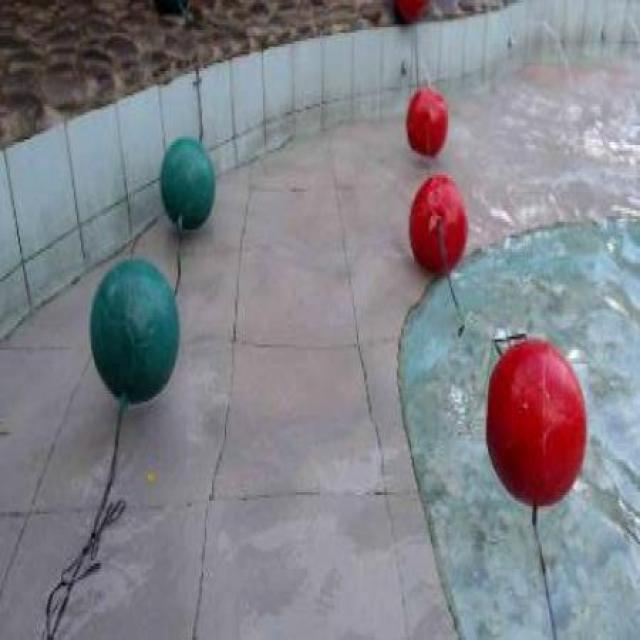buoy: (484, 337, 587, 506), (90, 259, 178, 402), (409, 175, 469, 279), (160, 136, 213, 225), (406, 86, 446, 154)
